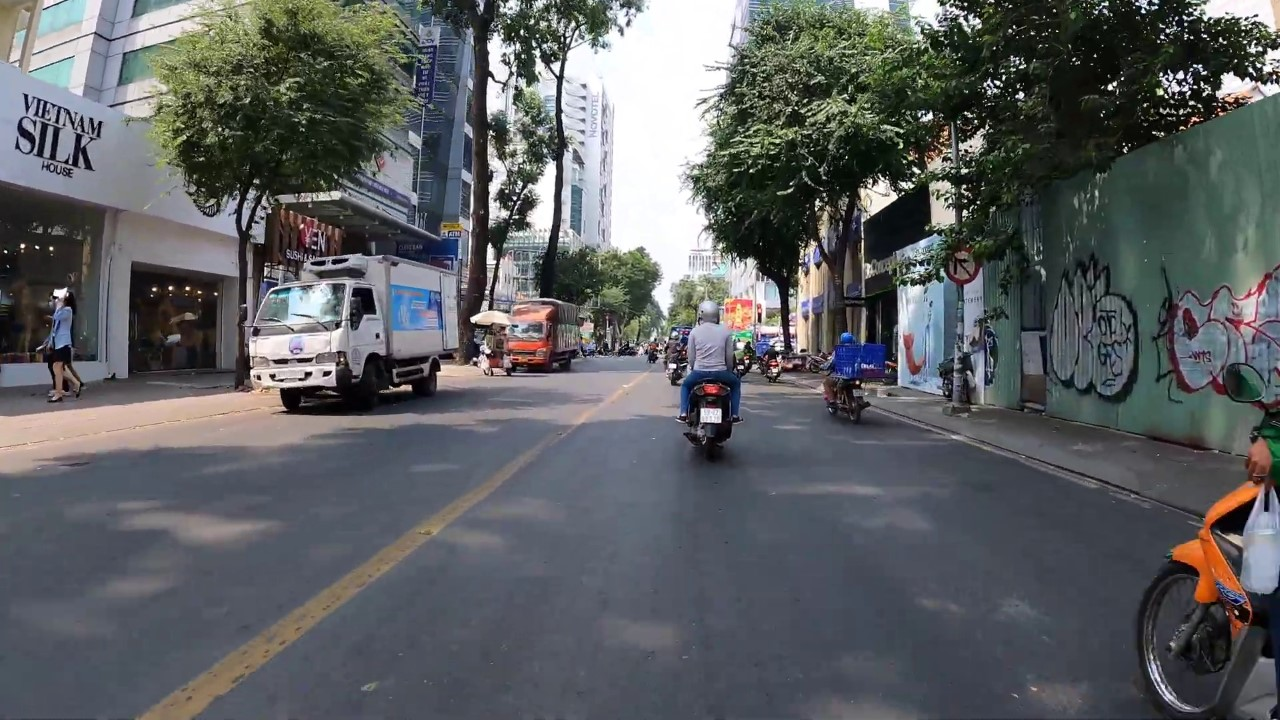cam_re_phai: (944, 246, 980, 285)
